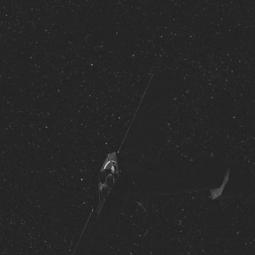xmm_newton: (86, 143, 237, 214)
